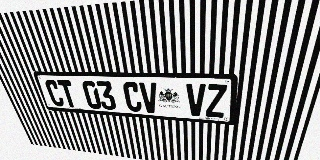0: (81, 81, 102, 109)
3: (96, 81, 117, 110)
C: (122, 82, 143, 112), (44, 80, 65, 107)
T: (57, 80, 78, 108)
V: (186, 83, 206, 116), (139, 82, 159, 113)
Z: (206, 84, 227, 118)
